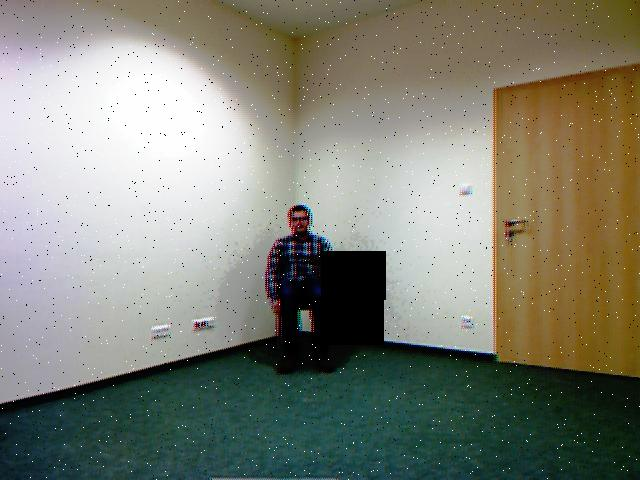sitting: (263, 194, 360, 386)
